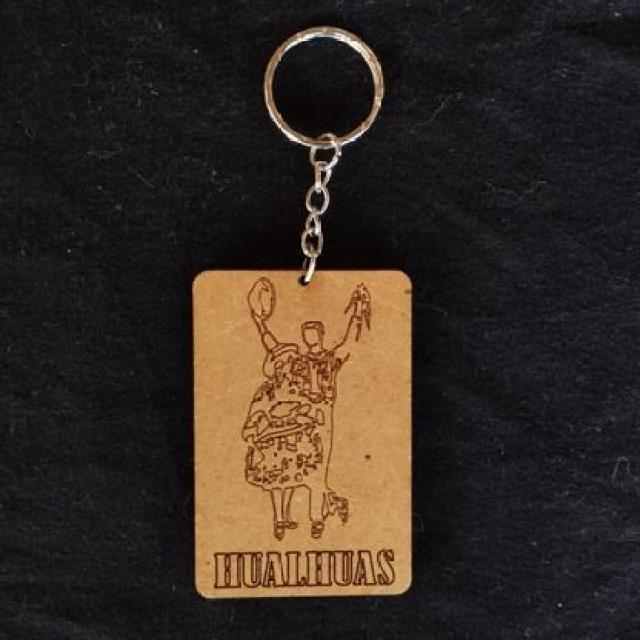Llavero: (238, 275, 371, 540)
